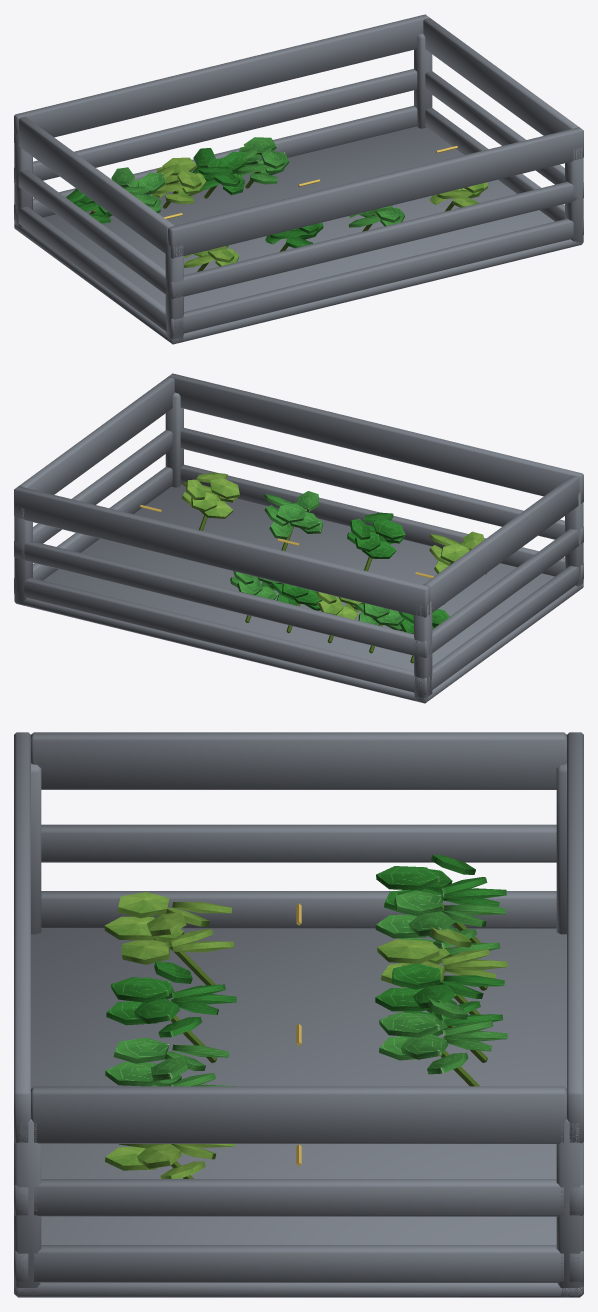
Rendered from harvest_crate_herbs.glb.
The picture shows the model from 3 angles, top to bottom: view 1: azimuth 30°, elevation 25°; view 2: azimuth 150°, elevation 25°; view 3: azimuth 270°, elevation 25°; orthographic projection. The views are drawn at different scales.
Visible parts, largest first — view 1: harvest_crate_herbs; view 2: harvest_crate_herbs; view 3: harvest_crate_herbs.
Boxes of the visible parts, x1,y1,x2,y2 form: harvest_crate_herbs: [14, 14, 583, 344]; harvest_crate_herbs: [14, 373, 583, 703]; harvest_crate_herbs: [14, 732, 583, 1297].
Bounding box in the file's own units: 0.6 × 0.1605 × 0.4.
6 materials, 3 textured.
